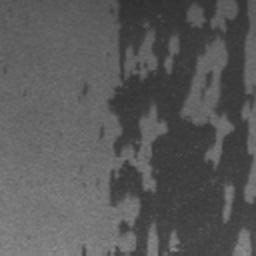Red iron sheet: (106, 0, 256, 255), (104, 244, 125, 255), (97, 124, 106, 141), (82, 81, 90, 96), (82, 244, 88, 256)
